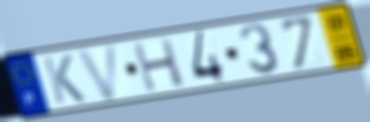3: (239, 23, 281, 77)
4: (188, 28, 228, 86)
7: (279, 13, 316, 72)
H: (130, 36, 188, 94)
K: (40, 53, 88, 106)
V: (74, 42, 120, 104)
